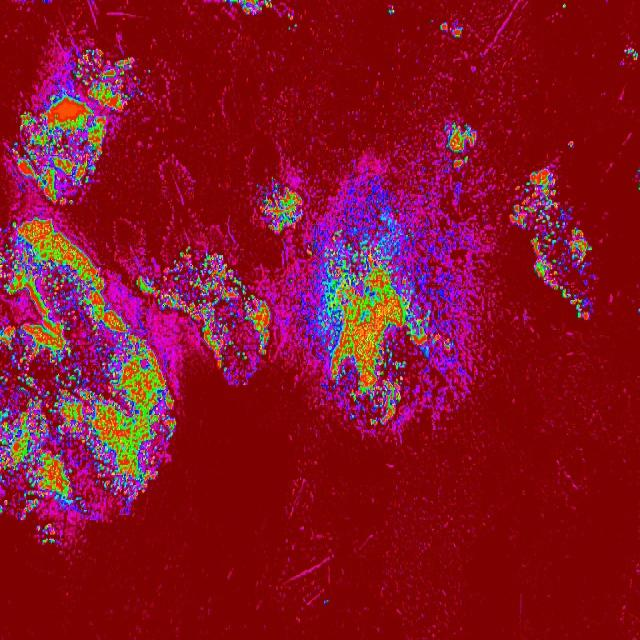fire: (303, 188, 459, 427), (0, 322, 137, 519), (12, 47, 140, 209), (135, 245, 273, 387), (512, 162, 596, 320), (0, 216, 124, 320), (136, 388, 177, 498), (254, 175, 304, 235), (444, 122, 478, 169), (225, 0, 276, 14), (34, 520, 59, 548), (439, 19, 464, 40), (620, 42, 640, 66), (284, 10, 300, 32), (635, 165, 640, 195), (566, 138, 576, 151), (388, 4, 397, 18), (138, 87, 145, 98), (560, 1, 568, 10), (322, 598, 329, 608), (40, 0, 54, 5), (146, 66, 152, 76), (636, 304, 640, 316)
